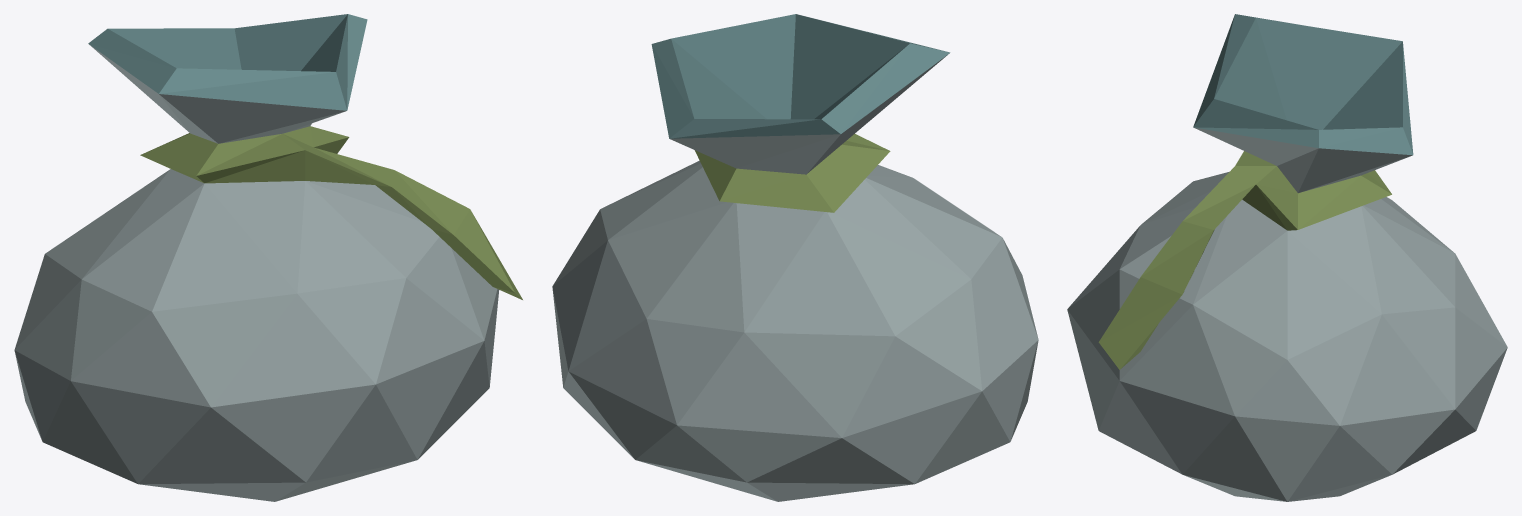
File: gem-bag.gltf
The picture shows the model from 3 angles, left to right: view 1: azimuth 30°, elevation 25°; view 2: azimuth 150°, elevation 25°; view 3: azimuth 270°, elevation 25°; orthographic projection. The views are drawn at different scales.
Size of the model in its own units: 44 by 41 by 42.
1 material, 1 textured.
